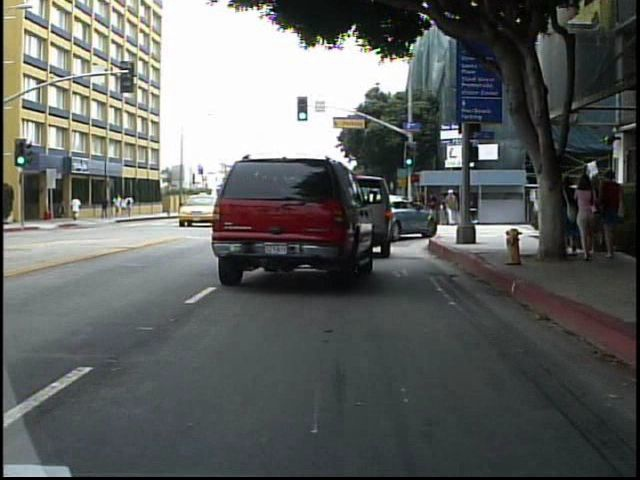person: (598, 169, 629, 260), (572, 176, 603, 267), (443, 187, 460, 228), (69, 194, 85, 225)
